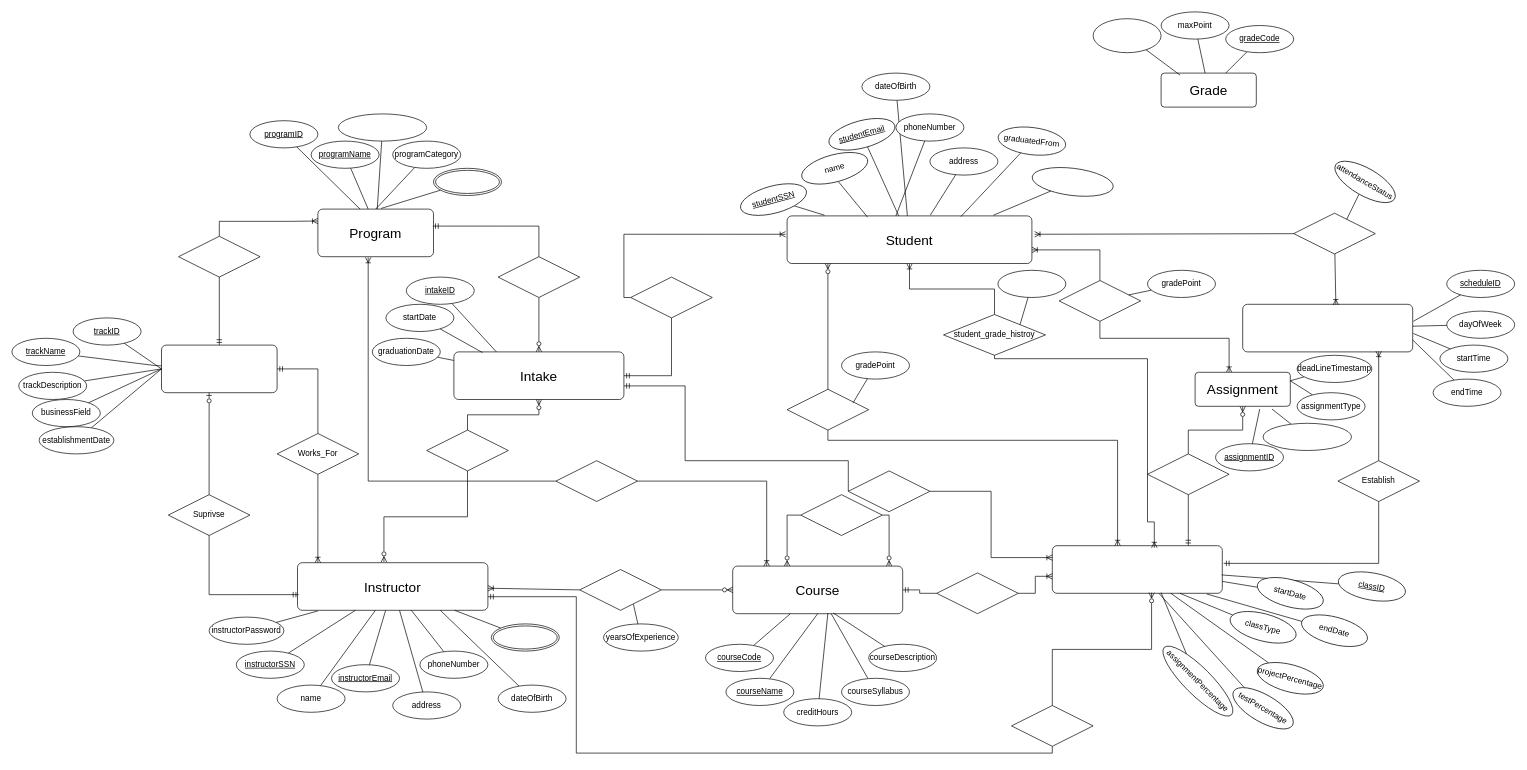
The diagram is 1527 pixels wide and 770 high, and some of its shapes have lost their labels. Each missing label, with the box of its shape:
Allocate: (1147, 453, 1229, 495)
Assign: (936, 572, 1018, 614)
assignmentDescription: (1262, 423, 1352, 451)
Attend: (1293, 213, 1375, 254)
Class: (1052, 545, 1222, 593)
Contain: (178, 236, 260, 277)
Contains: (555, 460, 638, 502)
Experienced_In: (579, 569, 661, 610)
gradeScore: (997, 270, 1066, 298)
graduate_From: (426, 429, 508, 471)
Has: (497, 256, 580, 298)
Initiate: (848, 470, 930, 512)
jobProfiles: (433, 168, 502, 196)
Join: (630, 276, 712, 318)
minPoint: (1092, 18, 1161, 53)
Prerequisite: (800, 494, 882, 536)
programDescription: (338, 113, 427, 141)
qualifications: (491, 623, 559, 651)
Schedule: (1242, 304, 1413, 352)
studentPassword: (1030, 163, 1115, 200)
Submit: (1058, 280, 1141, 321)
Teach_In: (1011, 705, 1093, 746)
Test_Evaluate: (786, 389, 869, 430)
Track: (161, 344, 277, 393)
